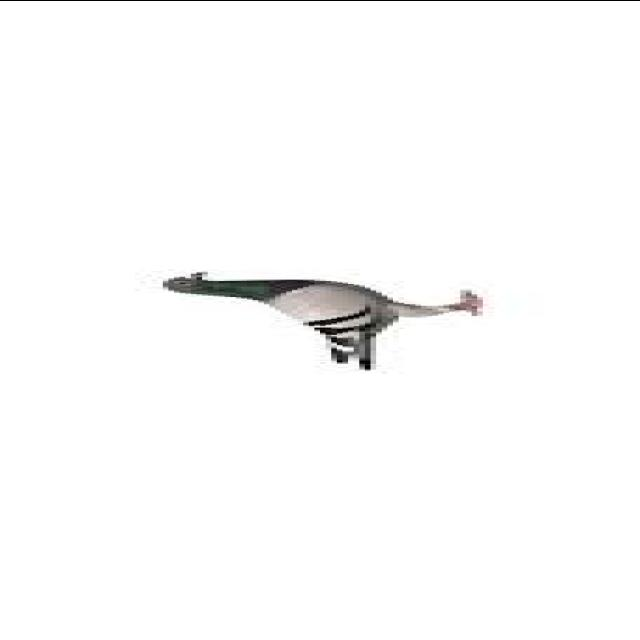pigeon: (84, 261, 510, 375)
